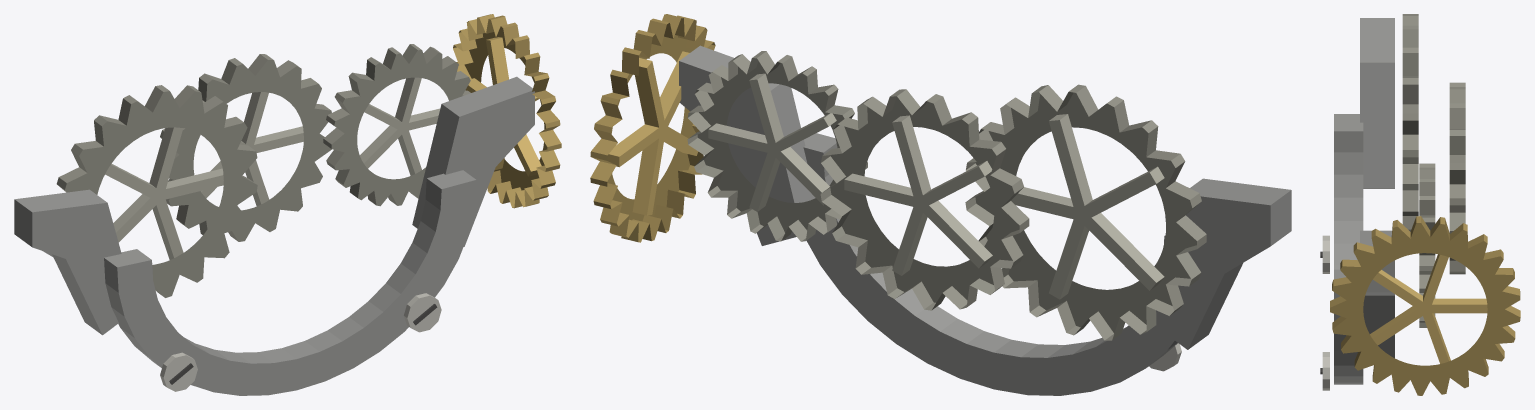
File: SilverCarrier.glb
3 renders of one model, left to right at view 1: azimuth 30°, elevation 25°; view 2: azimuth 150°, elevation 25°; view 3: azimuth 270°, elevation 25°, orthographic. The views are drawn at different scales.
Visible parts, largest first — view 1: SilverCarrier; view 2: SilverCarrier; view 3: SilverCarrier.
Part boxes in pixels (x1=…): SilverCarrier: x1=14, y1=14, x2=561, y2=395; SilverCarrier: x1=590, y1=14, x2=1291, y2=395; SilverCarrier: x1=1320, y1=14, x2=1520, y2=395.
Bounding box in the file's own units: 1.23 × 0.6768 × 0.4231.
